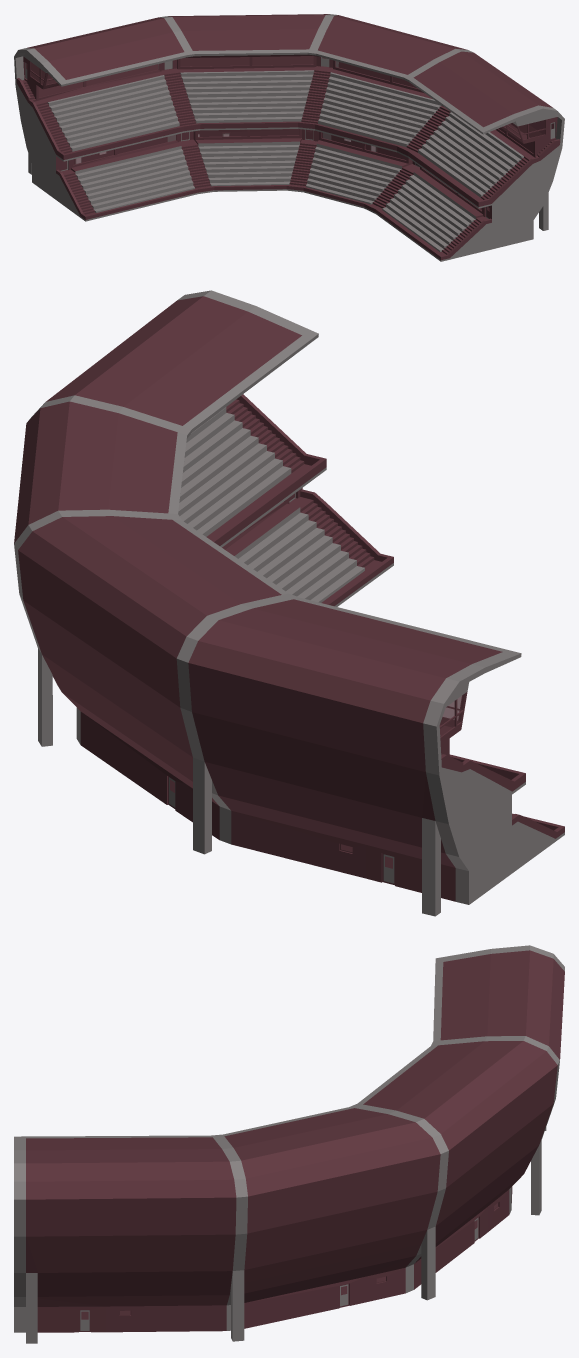
Rendered from tribune-curve-double.fbx.
The picture shows the model from 3 angles, top to bottom: view 1: azimuth 30°, elevation 25°; view 2: azimuth 150°, elevation 25°; view 3: azimuth 270°, elevation 25°; orthographic projection. The views are drawn at different scales.
Parts seen in each view (by area): view 1: tribune-curve-double; view 2: tribune-curve-double; view 3: tribune-curve-double.
Part boxes in pixels (x1,y1,x2,y2): tribune-curve-double: (14, 14, 564, 261); tribune-curve-double: (14, 290, 564, 916); tribune-curve-double: (14, 945, 564, 1343).
Bounding box in the file's own units: 46.5 × 16.34 × 46.5.
